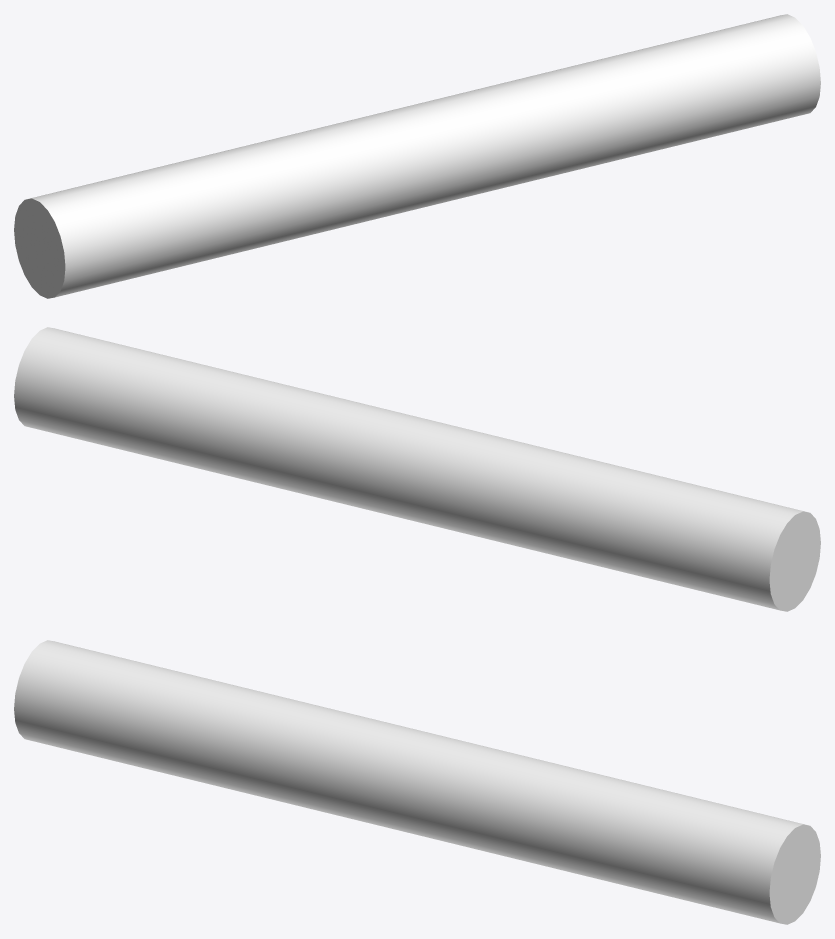
Rendered from gizmoMoveX.fbx.
3 views of the same model, one above another, from view 1: azimuth 30°, elevation 25°; view 2: azimuth 150°, elevation 25°; view 3: azimuth 330°, elevation 25° (orthographic).
Parts seen in each view (by area): view 1: gizmoMoveX; view 2: gizmoMoveX; view 3: gizmoMoveX.
Boxes of the visible parts, x1,y1,x2,y2 form: gizmoMoveX: (14,14,820,298); gizmoMoveX: (14,327,820,611); gizmoMoveX: (14,640,820,924).
Size of the model in its own units: 30.49 by 3.6 by 3.6.
Materials: 1 (1 with a texture image).
